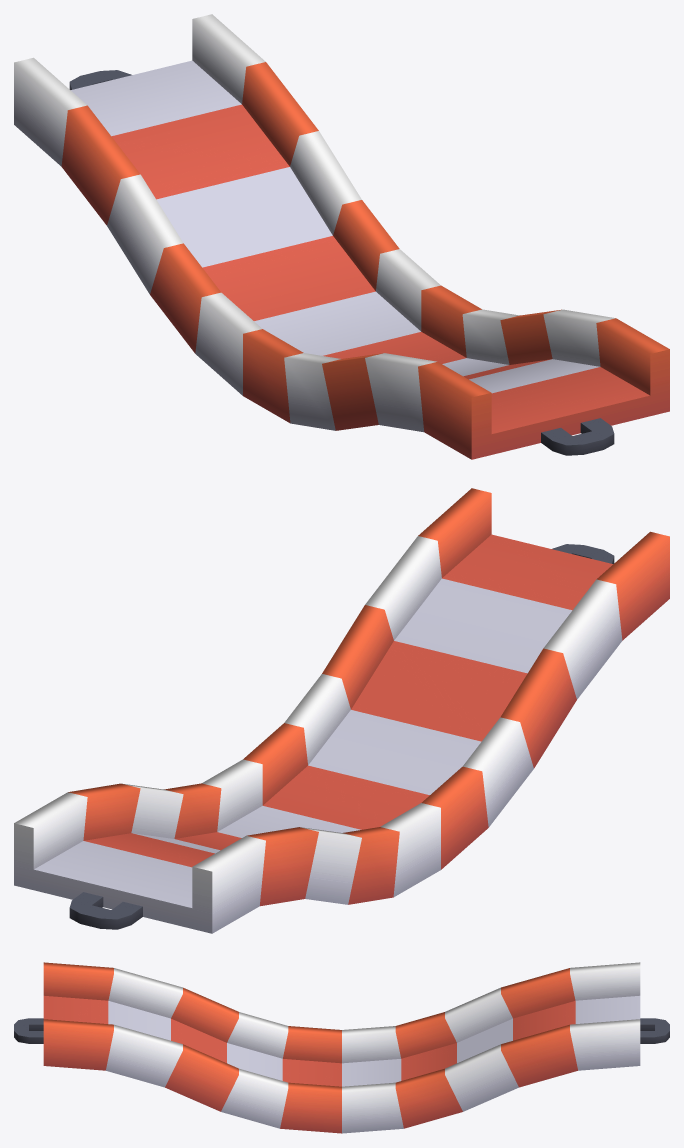
File: track-striped-narrow-straight-bump-down.glb
3 renders of one model, top to bottom at view 1: azimuth 30°, elevation 25°; view 2: azimuth 150°, elevation 25°; view 3: azimuth 270°, elevation 25°, orthographic. The views are drawn at different scales.
Parts seen in each view (by area): view 1: track-striped-narrow-straight-bump-down; view 2: track-striped-narrow-straight-bump-down; view 3: track-striped-narrow-straight-bump-down.
Part boxes in pixels (x1=…): track-striped-narrow-straight-bump-down: x1=14, y1=14, x2=669, y2=459; track-striped-narrow-straight-bump-down: x1=14, y1=488, x2=669, y2=933; track-striped-narrow-straight-bump-down: x1=14, y1=962, x2=669, y2=1133.
Size of the model in its own units: 0.9999 by 0.8001 by 4.4.
1 material, 1 textured.
